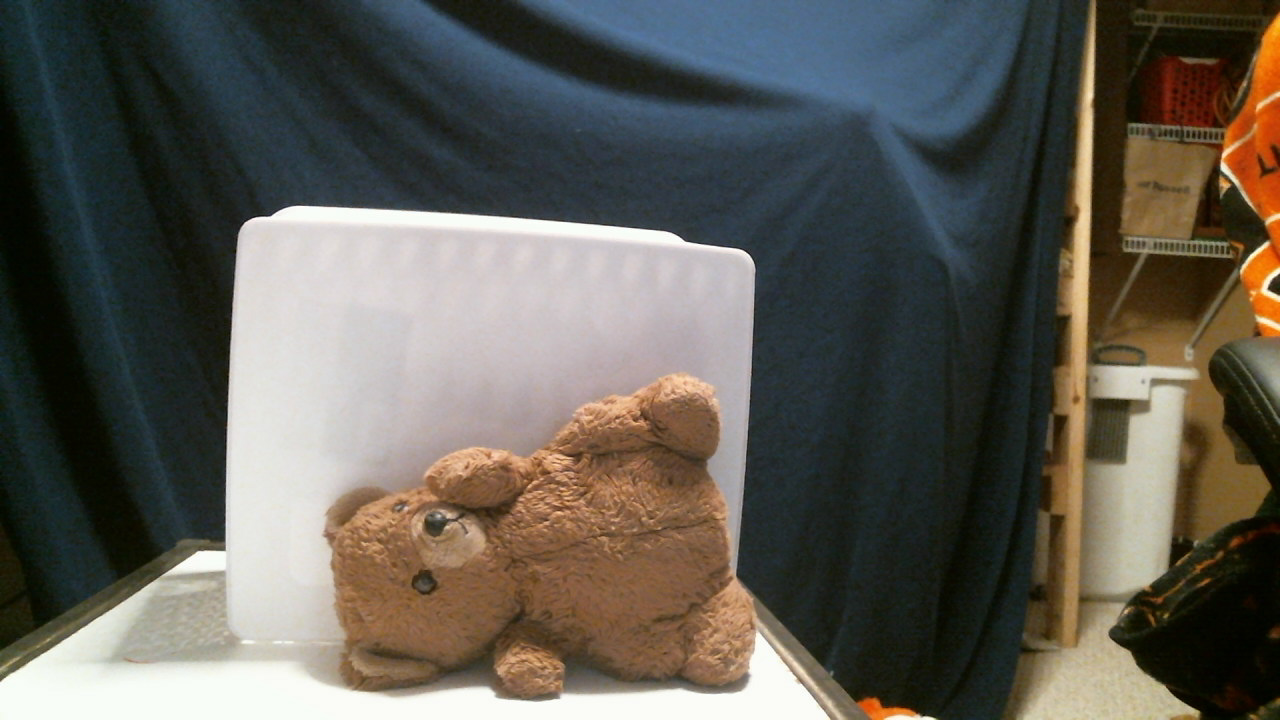Little_Mister_Bear: (386, 496, 506, 605)
